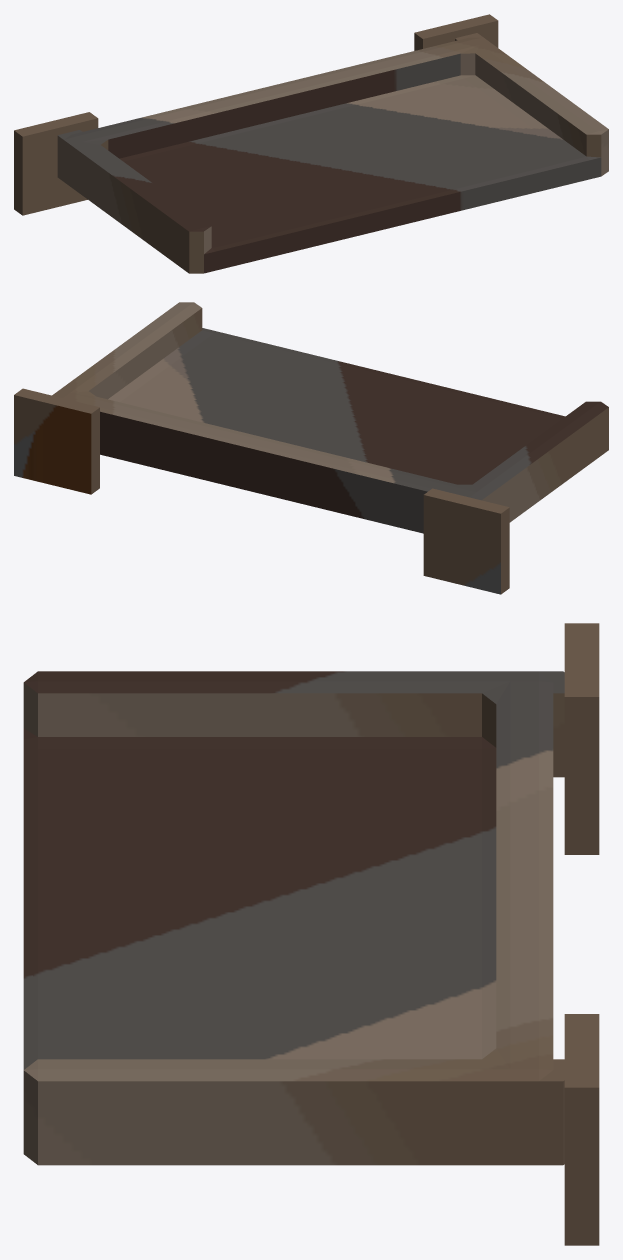
File: WallTable.fbx
3 views of the same model, one above another, from view 1: azimuth 30°, elevation 25°; view 2: azimuth 150°, elevation 25°; view 3: azimuth 270°, elevation 25° (orthographic). The views are drawn at different scales.
Visible parts, largest first — view 1: WallTable; view 2: WallTable; view 3: WallTable.
Part boxes in pixels (bbox=[...]): WallTable: bbox=[14, 14, 608, 273]; WallTable: bbox=[14, 302, 608, 594]; WallTable: bbox=[23, 623, 599, 1245].
Bounding box in the file's own units: 2.61 × 0.4141 × 1.37.
